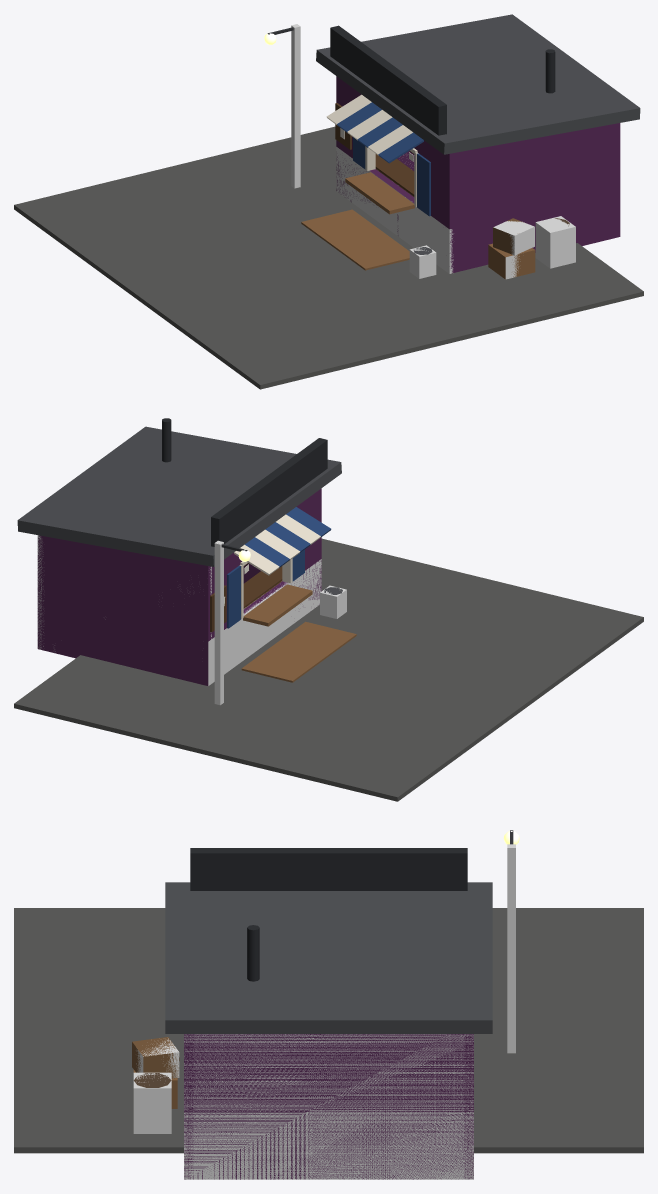
File: booth-15.glb
3 renders of one model, top to bottom at view 1: azimuth 30°, elevation 25°; view 2: azimuth 150°, elevation 25°; view 3: azimuth 270°, elevation 25°, orthographic. The views are drawn at different scales.
Visible parts, largest first — view 1: 25_#5a5a58_noshadow, 26_#4c4e52, 14_#5a2a5a, 27_#2a2c30_noshadow, solid.008, 04_#8a6440_noshadow, 01_#2c4a7a_noshadow_r320, 07_#8a6440_r320, 00_#e8e0d0_noshadow_r320, solid.003, solid.004, 15_#5a2a5a_r320 (+3 smaller); view 2: 25_#5a5a58_noshadow, 26_#4c4e52, 14_#5a2a5a, 27_#2a2c30_noshadow, 04_#8a6440_noshadow, solid.008, 01_#2c4a7a_noshadow_r320, 00_#e8e0d0_noshadow_r320, solid.004, 07_#8a6440_r320, 19_#5a3e26_noshadow, solid (+1 smaller); view 3: 25_#5a5a58_noshadow, 26_#4c4e52, solid.005, 14_#5a2a5a, 27_#2a2c30_noshadow, solid.003, solid.004, 08_#7a5a3a_r110, 13_#2a2c30_r320, solid.002.
Boxes of the visible parts, <box> form: 25_#5a5a58_noshadow: <box>14,126,643,389</box>; 26_#4c4e52: <box>316,14,640,154</box>; 14_#5a2a5a: <box>336,76,620,273</box>; 27_#2a2c30_noshadow: <box>330,25,446,135</box>; solid.008: <box>336,147,453,273</box>; 04_#8a6440_noshadow: <box>301,209,409,270</box>; 01_#2c4a7a_noshadow_r320: <box>337,102,430,216</box>; 07_#8a6440_r320: <box>345,172,535,279</box>; 00_#e8e0d0_noshadow_r320: <box>326,94,418,206</box>; solid.003: <box>535,216,575,268</box>; solid.004: <box>291,24,300,188</box>; 15_#5a2a5a_r320: <box>336,93,455,228</box>; 25_#5a5a58_noshadow: <box>14,538,643,801</box>; 26_#4c4e52: <box>17,426,341,566</box>; 14_#5a2a5a: <box>37,488,321,685</box>; 27_#2a2c30_noshadow: <box>211,438,327,546</box>; 04_#8a6440_noshadow: <box>241,621,356,682</box>; solid.008: <box>208,559,321,685</box>; 01_#2c4a7a_noshadow_r320: <box>227,507,331,628</box>; 00_#e8e0d0_noshadow_r320: <box>234,514,320,619</box>; solid.004: <box>214,540,223,705</box>; 07_#8a6440_r320: <box>243,584,312,626</box>; 19_#5a3e26_noshadow: <box>243,566,282,608</box>; solid: <box>320,585,346,618</box>; 25_#5a5a58_noshadow: <box>14,908,643,1153</box>; 26_#4c4e52: <box>165,882,492,1033</box>; solid.005: <box>184,1034,473,1179</box>; 14_#5a2a5a: <box>184,1034,473,1179</box>; 27_#2a2c30_noshadow: <box>190,848,467,890</box>; solid.003: <box>133,1072,171,1133</box>; solid.004: <box>507,844,515,1053</box>; 08_#7a5a3a_r110: <box>132,1037,179,1078</box>; 13_#2a2c30_r320: <box>247,925,259,981</box>; solid.002: <box>136,1038,179,1077</box>.
Bounding box in the file's own units: 10.3 × 3.95 × 10.
